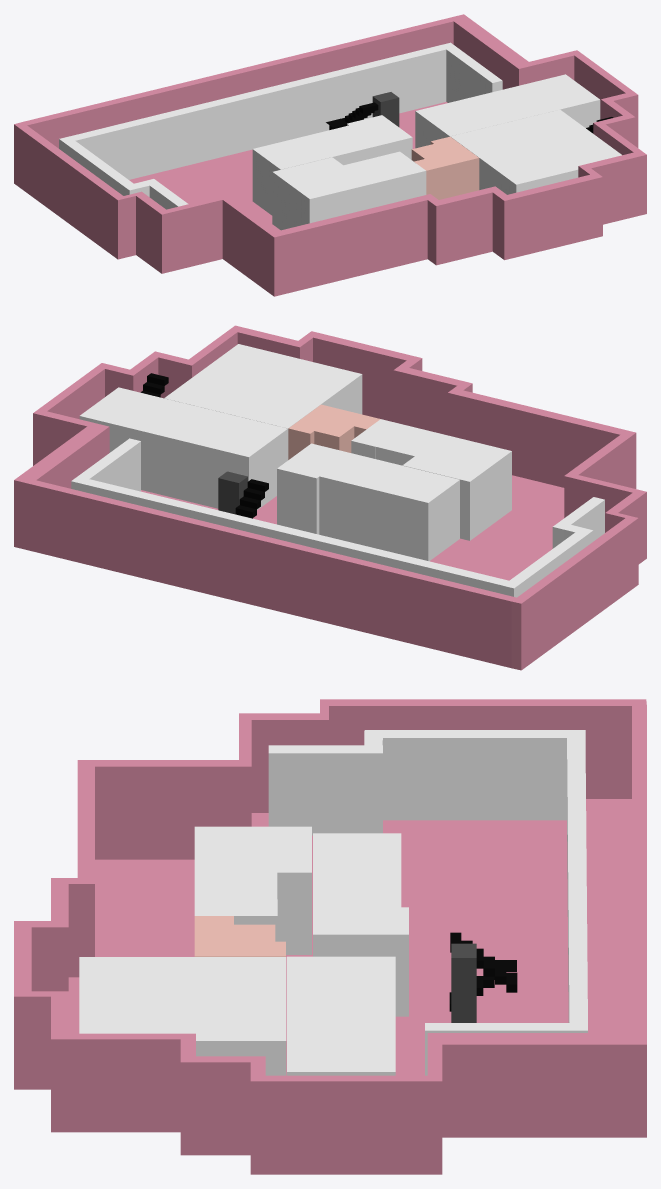
The picture shows the model from 3 angles, top to bottom: view 1: azimuth 30°, elevation 25°; view 2: azimuth 150°, elevation 25°; view 3: azimuth 270°, elevation 25°; orthographic projection. The views are drawn at different scales.
Visible parts, largest first — view 1: object, 倉庫, エクステンションセンター事務課, 2A, 2B, 2C, 男子トイレ_図書館生田分館_2_1, 女子トイレ_図書館生田分館_2_1, エレベーター_図書館生田分館_2_1, 階段__図書館生田分館_1_1; view 2: object, 2A, エクステンションセンター事務課, 倉庫, 2B, 2C, 男子トイレ_図書館生田分館_2_1, バリアフリートイレ_図書館生田分館_2_1, エレベーター_図書館生田分館_2_1, 階段__図書館生田分館_1_1, 湯沸室, 女子トイレ_図書館生田分館_2_1; view 3: object, 倉庫, エクステンションセンター事務課, 2A, 2B, 2C, エレベーター_図書館生田分館_2_1, 男子トイレ_図書館生田分館_2_1, 階段__図書館生田分館_1_1, 湯沸室, 女子トイレ_図書館生田分館_2_1, バリアフリートイレ_図書館生田分館_2_1.
Part boxes in pixels (x1,y1,x2,y2): object: (14,14,646,296); 倉庫: (450,109,621,194); エクステンションセンター事務課: (415,74,600,148); 2A: (252,115,412,215); 2B: (272,157,369,230); 2C: (343,157,426,208); 男子トイレ_図書館生田分館_2_1: (430,136,479,196); 女子トイレ_図書館生田分館_2_1: (414,155,451,199); エレベーター_図書館生田分館_2_1: (372,92,399,126); 階段__図書館生田分館_1_1: (326,102,378,129); object: (14,325,646,670); 2A: (277,443,459,561); エクステンションセンター事務課: (79,387,287,509); 倉庫: (164,344,362,459); 2B: (402,434,511,540); 2C: (370,419,443,465); 男子トイレ_図書館生田分館_2_1: (288,404,350,459); バリアフリートイレ_図書館生田分館_2_1: (314,420,354,452); エレベーター_図書館生田分館_2_1: (218,471,247,514); 階段__図書館生田分館_1_1: (235,479,268,518); 湯沸室: (351,427,394,458); 女子トイレ_図書館生田分館_2_1: (338,412,380,437); object: (14,699,646,1174); 倉庫: (79,957,286,1075); エクステンションセンター事務課: (287,956,395,1075); 2A: (313,833,408,1016); 2B: (194,826,311,954); 2C: (194,872,277,915); エレベーター_図書館生田分館_2_1: (451,943,476,1022); 男子トイレ_図書館生田分館_2_1: (194,935,285,956); 階段__図書館生田分館_1_1: (449,932,517,1011); 湯沸室: (224,899,277,941); 女子トイレ_図書館生田分館_2_1: (194,916,233,935); バリアフリートイレ_図書館生田分館_2_1: (234,924,275,941).
Size of the model in its own units: 1.78 by 0.206 by 1.25.
